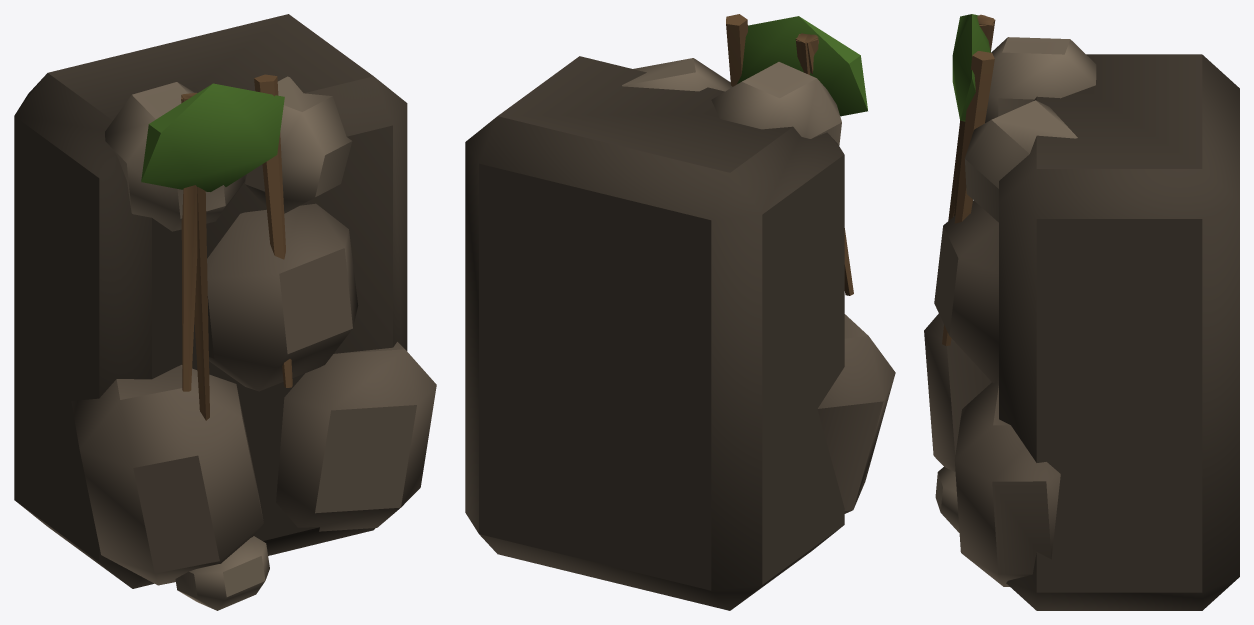
File: cv_wurzel_wall_2.glb
3 views of the same model, side by side, from view 1: azimuth 30°, elevation 25°; view 2: azimuth 150°, elevation 25°; view 3: azimuth 270°, elevation 25° (orthographic). The views are drawn at different scales.
Visible parts, largest first — view 1: body; view 2: body; view 3: body.
Boxes of the visible parts, x1,y1,x2,y2 form: body: (14, 14, 436, 610); body: (465, 14, 895, 610); body: (924, 14, 1239, 610).
Size of the model in its own units: 2.61 by 3.73 by 2.1.
